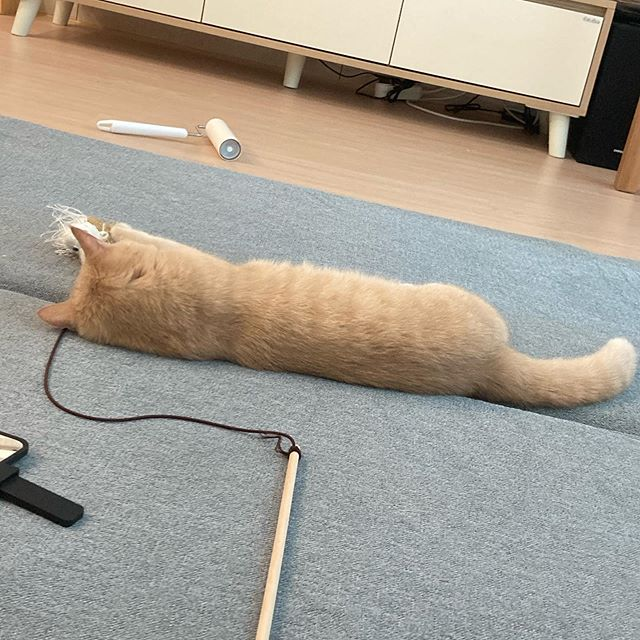cat: (40, 229, 176, 350)
